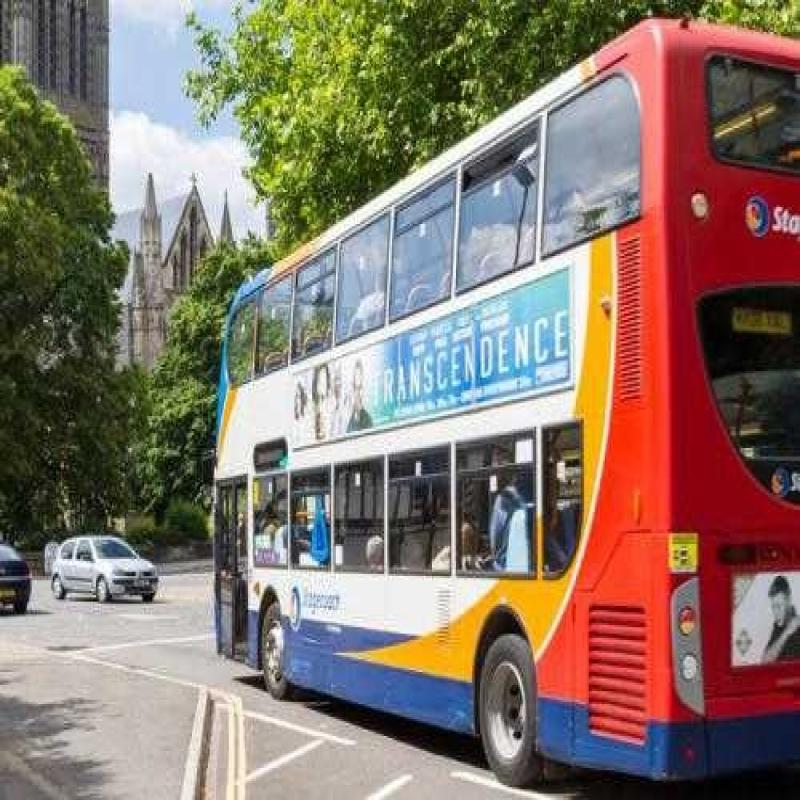bus: (200, 11, 800, 800)
